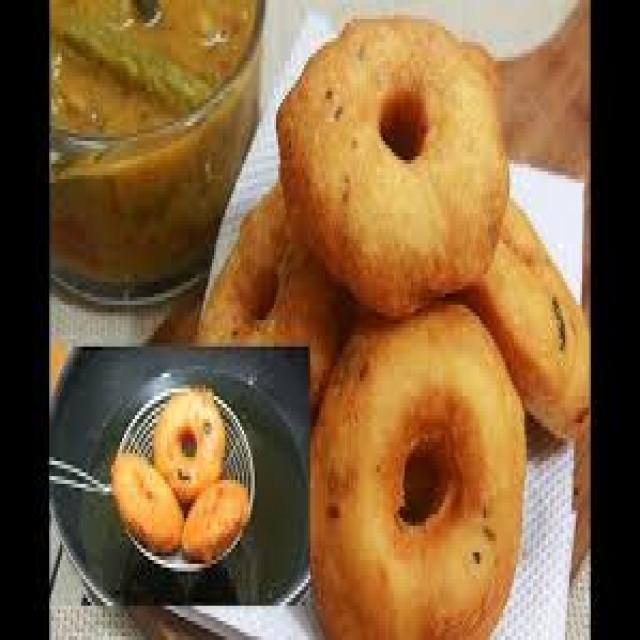MEDU VADA: (310, 301, 524, 636), (278, 19, 507, 312), (195, 183, 349, 396), (460, 202, 586, 434)
